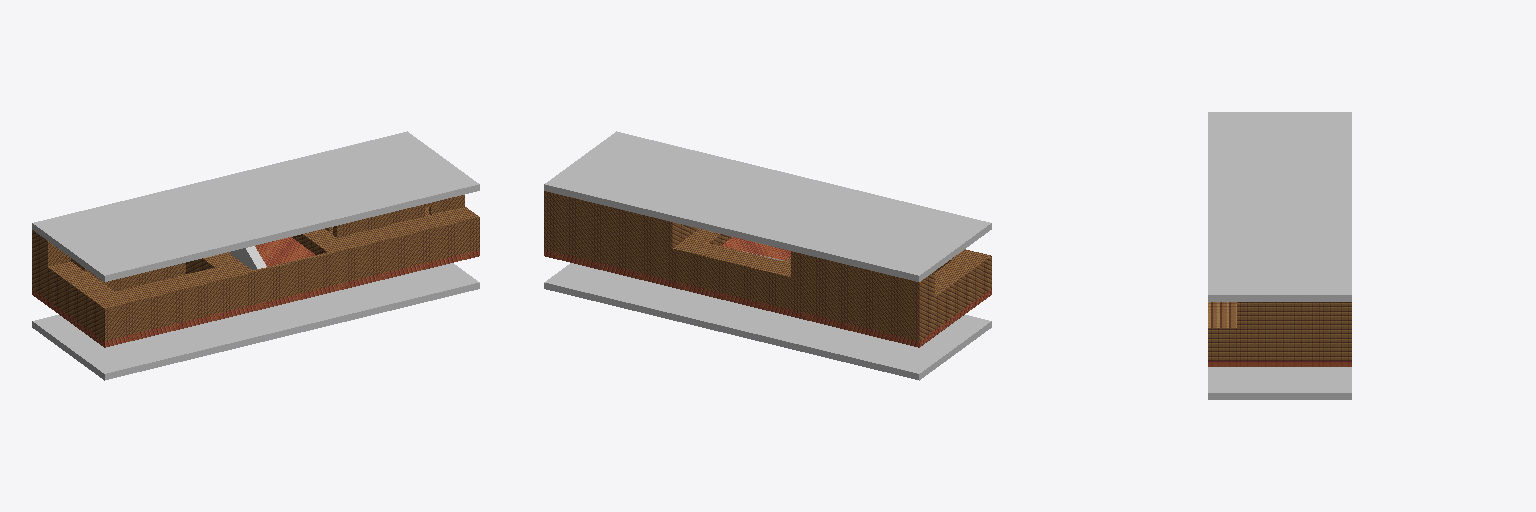
3 renders of one model, left to right at view 1: azimuth 30°, elevation 25°; view 2: azimuth 150°, elevation 25°; view 3: azimuth 270°, elevation 25°, orthographic.
Visible parts, largest first — view 1: entity2_brush0, entity3_brush0, entity0_brush0, entity0_brush25, entity0_brush12, entity0_brush2, entity1_brush0, entity1_brush6, entity1_brush4, entity0_brush39, entity1_brush41, entity1_brush2 (+3 smaller); view 2: entity2_brush0, entity3_brush0, entity0_brush0, entity0_brush1, entity0_brush3, entity0_brush39, entity1_brush9, entity1_brush29, entity1_brush4, entity0_brush41, entity1_brush7, entity0_brush9 (+6 smaller); view 3: entity2_brush0, entity3_brush0, entity0_brush5, entity1_brush10, entity1_brush0, entity0_brush0.
Part boxes in pixels (x1,y1,x2,y2): entity2_brush0: (32, 131, 479, 281); entity3_brush0: (32, 263, 479, 380); entity0_brush0: (32, 237, 479, 347); entity0_brush25: (355, 224, 476, 279); entity0_brush12: (108, 285, 229, 339); entity0_brush2: (233, 255, 351, 309); entity1_brush0: (330, 207, 479, 254); entity1_brush6: (116, 268, 229, 308); entity1_brush4: (32, 256, 129, 314); entity0_brush39: (32, 262, 107, 340); entity1_brush41: (340, 204, 424, 236); entity1_brush2: (232, 247, 351, 283); entity2_brush0: (544, 131, 991, 281); entity3_brush0: (544, 263, 991, 380); entity0_brush0: (544, 237, 991, 347); entity0_brush1: (672, 255, 790, 309); entity0_brush3: (794, 285, 893, 334); entity0_brush39: (916, 262, 991, 340); entity1_brush9: (593, 203, 668, 246); entity1_brush29: (846, 265, 915, 307); entity1_brush4: (894, 250, 991, 314); entity0_brush41: (675, 238, 790, 274); entity1_brush7: (794, 252, 842, 289); entity0_brush9: (622, 243, 668, 279); entity2_brush0: (1208, 112, 1351, 301); entity3_brush0: (1208, 367, 1351, 399); entity0_brush5: (1208, 334, 1351, 360); entity1_brush10: (1237, 302, 1351, 327); entity1_brush0: (1208, 302, 1351, 333); entity0_brush0: (1208, 361, 1351, 366).
Size of the model in its own units: 1920 by 512 by 640.
4 materials, 2 textured.